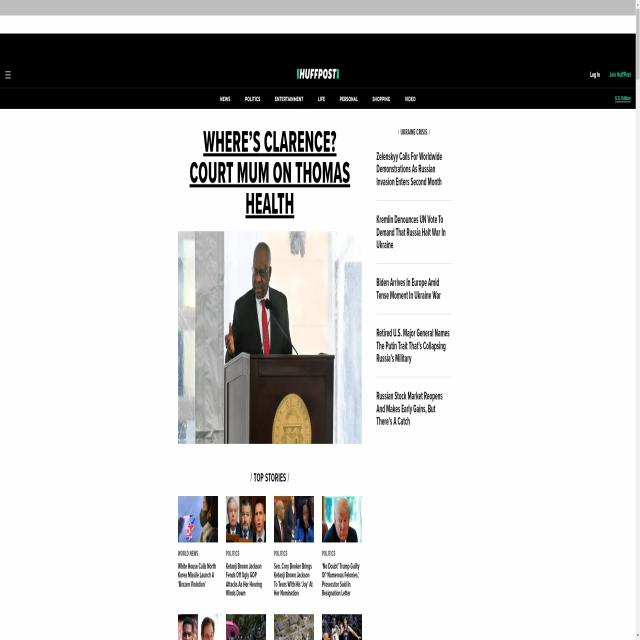tab-bar: (216, 91, 420, 105)
